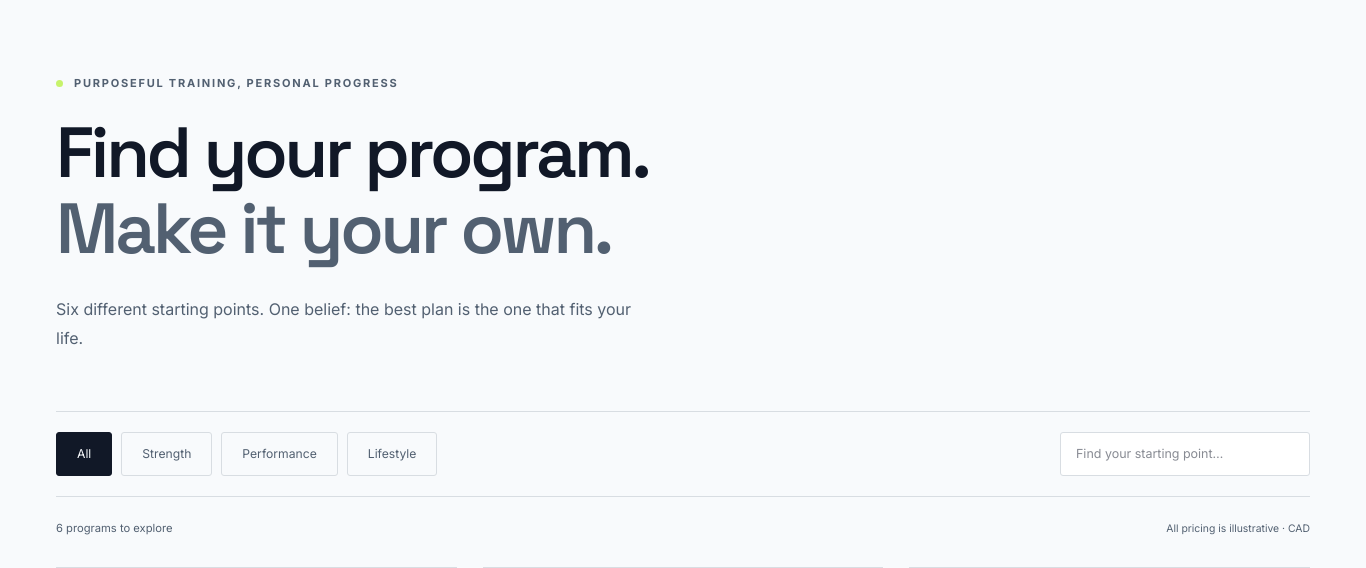
Test case: program content and filters › changes category through a real control
Step 1. Click the button "Strength" → (167, 454), box [121, 432, 212, 476]
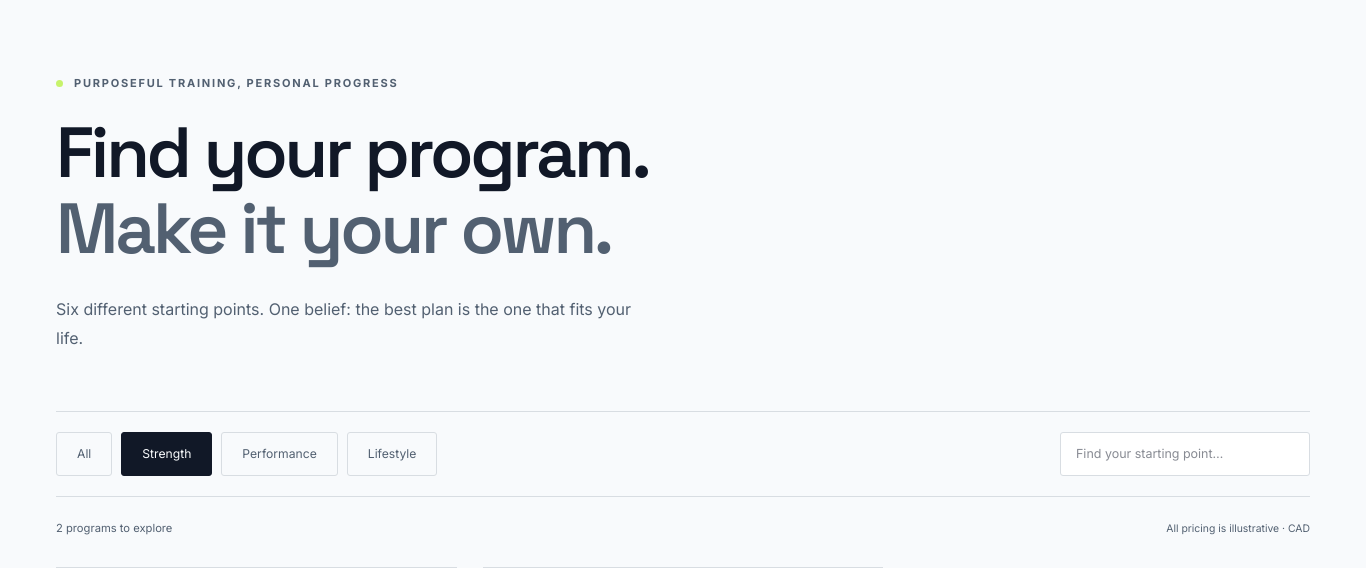
Now the message shows "2 programs", box [56, 519, 172, 539]
